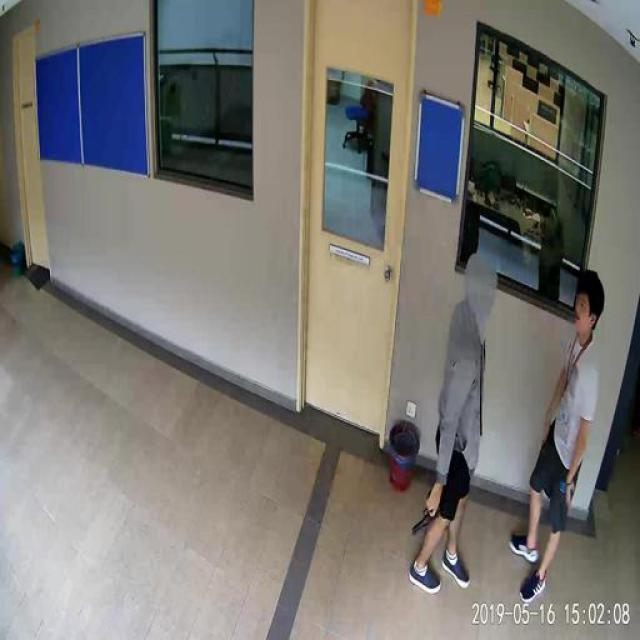weapon: (410, 489, 440, 536)
